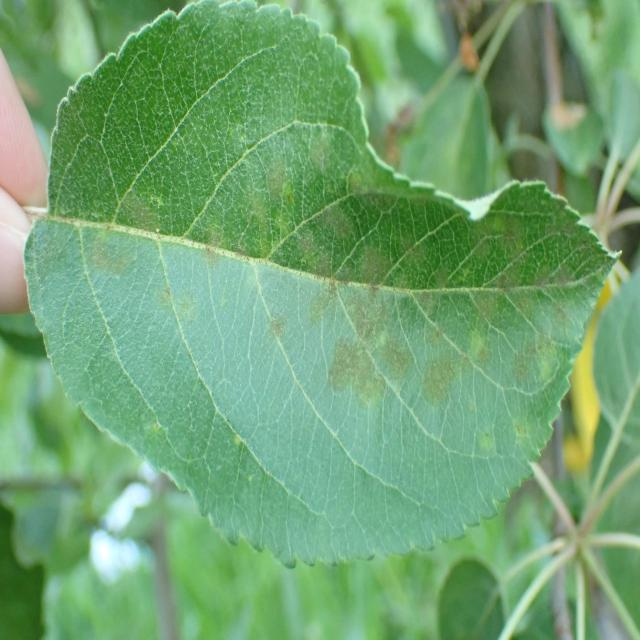scab: (53, 65, 608, 498)
